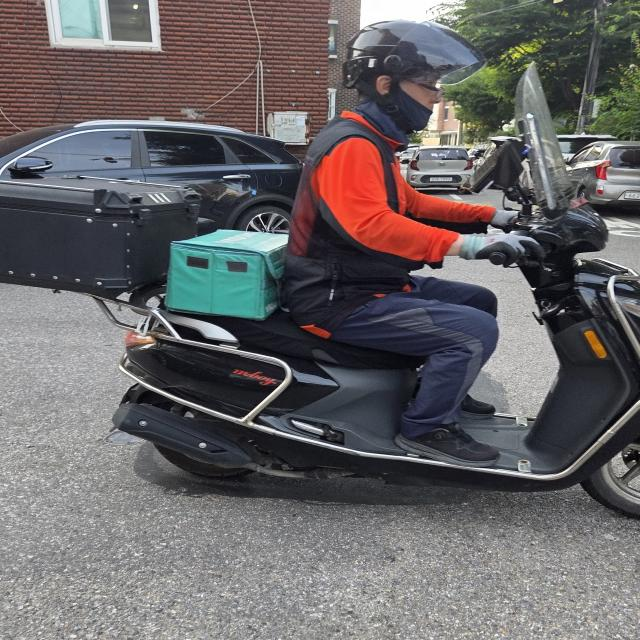car: (0, 111, 320, 234), (561, 130, 640, 212), (408, 130, 489, 192)
motorcycle: (0, 19, 640, 521)
